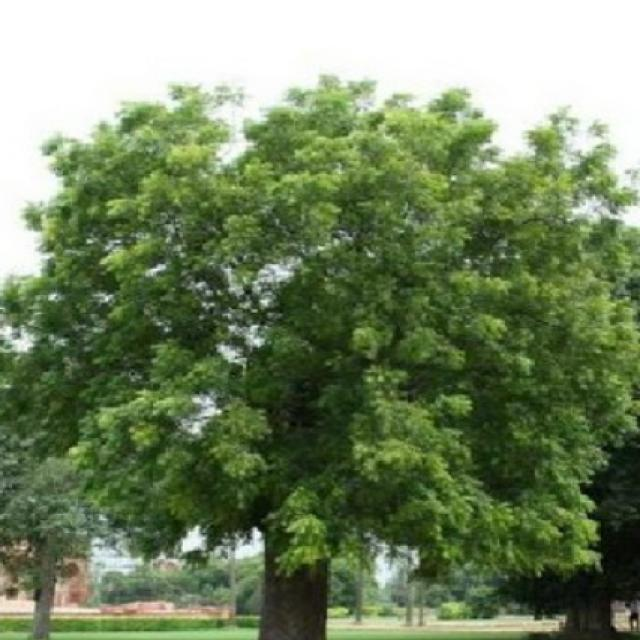Neem-Tree: (38, 53, 640, 548)
